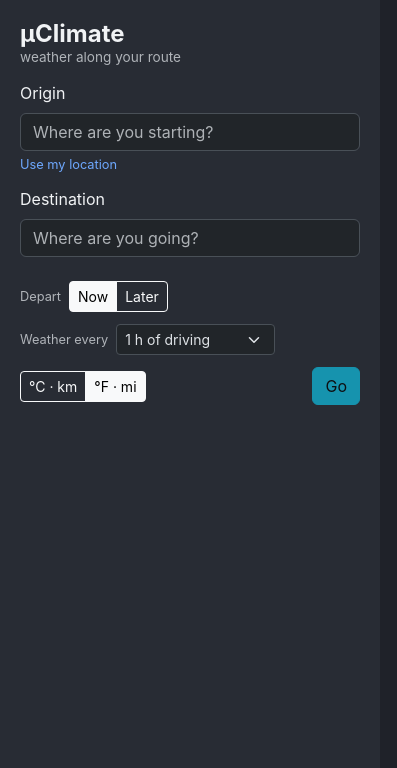
App › searches with a debounce and passes the query to the API
The image size is (397, 768).
Type "San Jose" into the dropdown labelled "Origin" at (190, 132), box [20, 113, 360, 151]
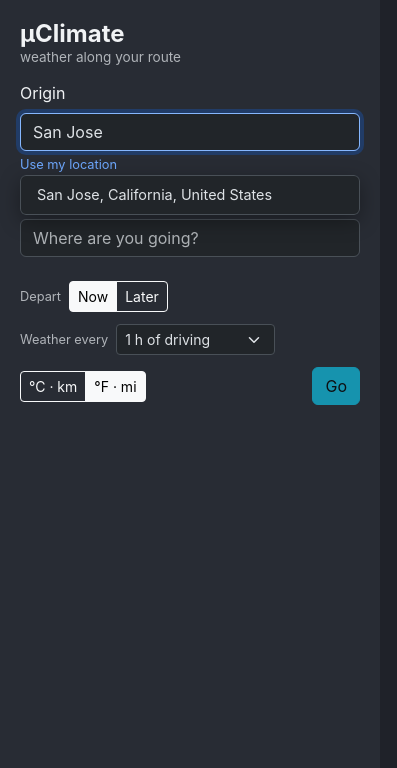
Result: the option "San Jose, California, United States" is shown at [20, 175, 360, 215]
